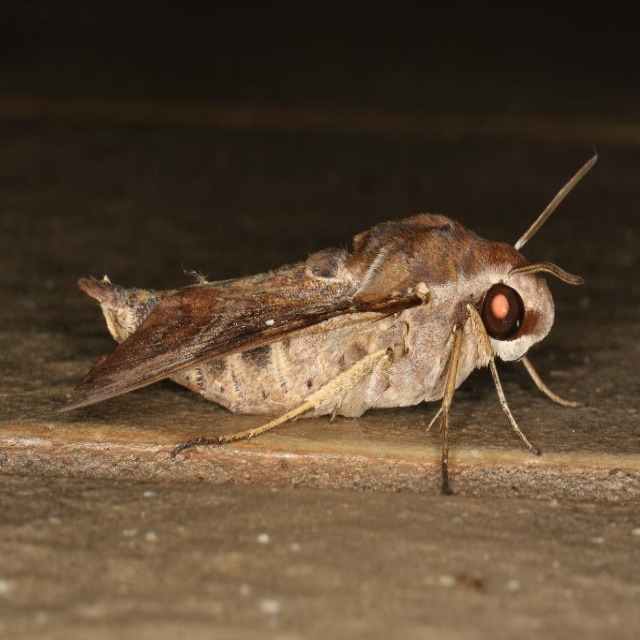Moths and butterflies: (52, 150, 600, 498)
